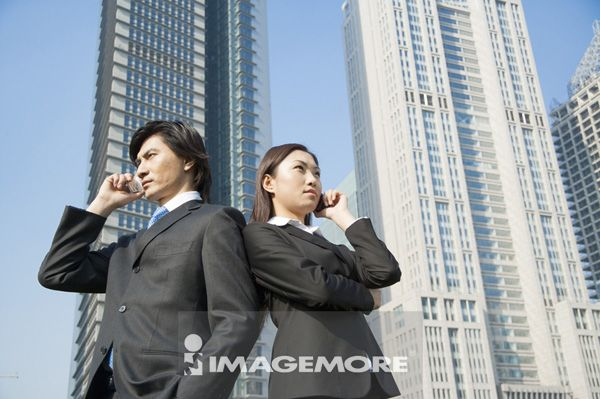talk: (99, 145, 165, 208), (292, 159, 348, 224)
